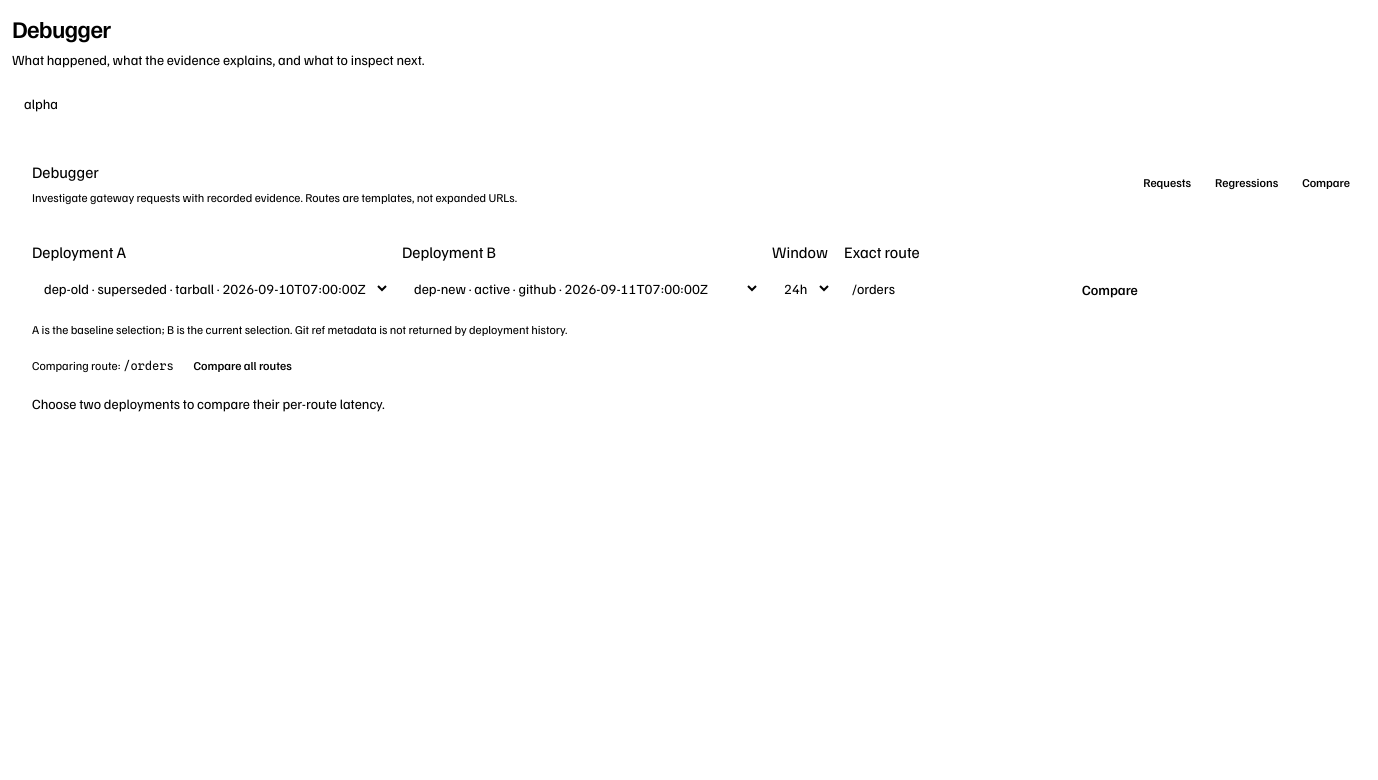
Scenario: Debugger investigation navigation › qualifies an empty exact-route comparison without claiming the deployments served no traffic elsewhere
Click the button "Compare" below "Window" at [1110, 290], box [1070, 274, 1150, 306]
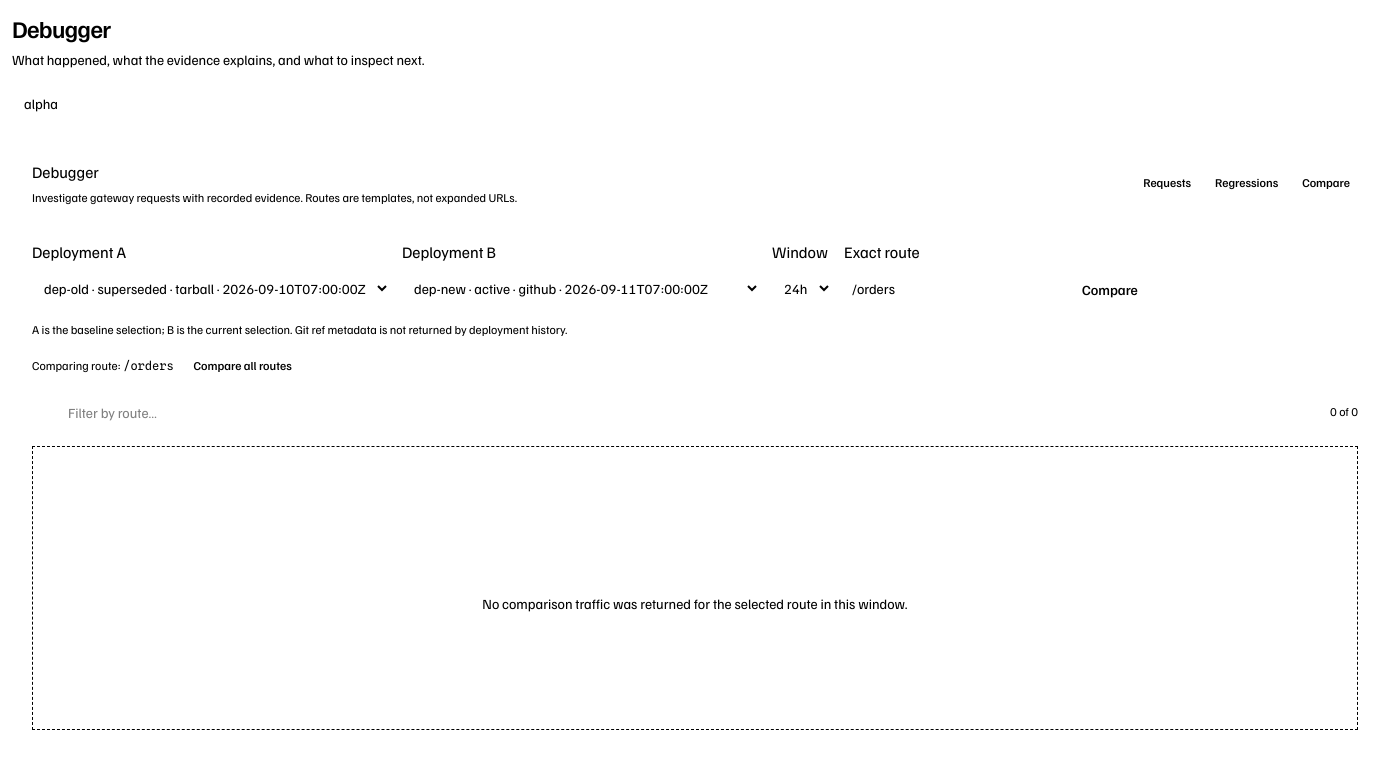
Expected: the text "No comparison traffic was returned for the selected route in this window." is shown, [482, 594, 908, 614]
